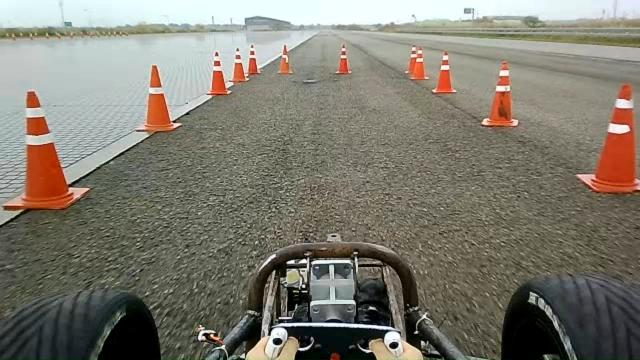red cone: (575, 82, 639, 194), (134, 63, 182, 132), (480, 60, 519, 127), (206, 50, 232, 95), (431, 50, 457, 94), (228, 47, 250, 82), (409, 44, 429, 80), (334, 43, 352, 75), (277, 44, 293, 74), (247, 44, 261, 74), (404, 44, 418, 74)
yellow cone: (1, 89, 90, 211)
